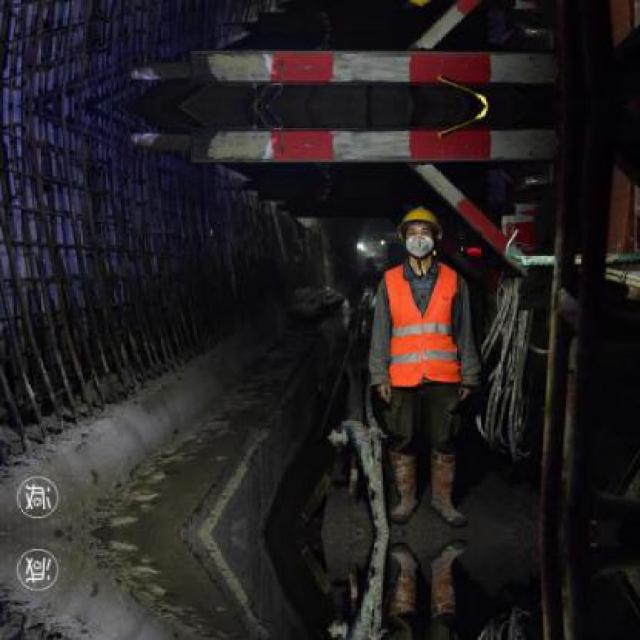Reflective-Jacket: (366, 260, 474, 400)
Safety-Helmet: (389, 199, 448, 237)
